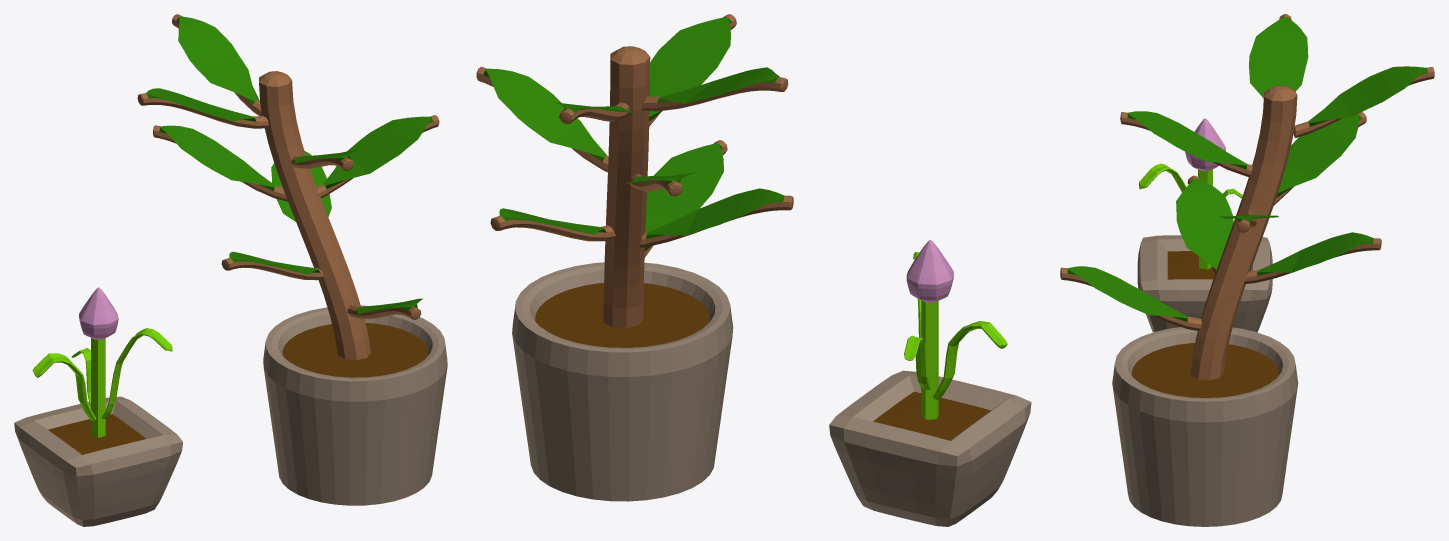
The model's file is plant.fbx.
3 renders of one model, left to right at view 1: azimuth 30°, elevation 25°; view 2: azimuth 150°, elevation 25°; view 3: azimuth 270°, elevation 25°, orthographic. The views are drawn at different scales.
Visible parts, largest first — view 1: Plant1, Plant2; view 2: Plant1, Plant2; view 3: Plant1, Plant2.
Part boxes in pixels (left/top/right/bottom): Plant1: left=137, top=14, right=447, bottom=505; Plant2: left=14, top=287, right=182, bottom=526; Plant1: left=476, top=14, right=793, bottom=501; Plant2: left=829, top=239, right=1031, bottom=526; Plant1: left=1060, top=14, right=1434, bottom=526; Plant2: left=1137, top=118, right=1272, bottom=332.
Size of the model in its own units: 662 by 590 by 507.
